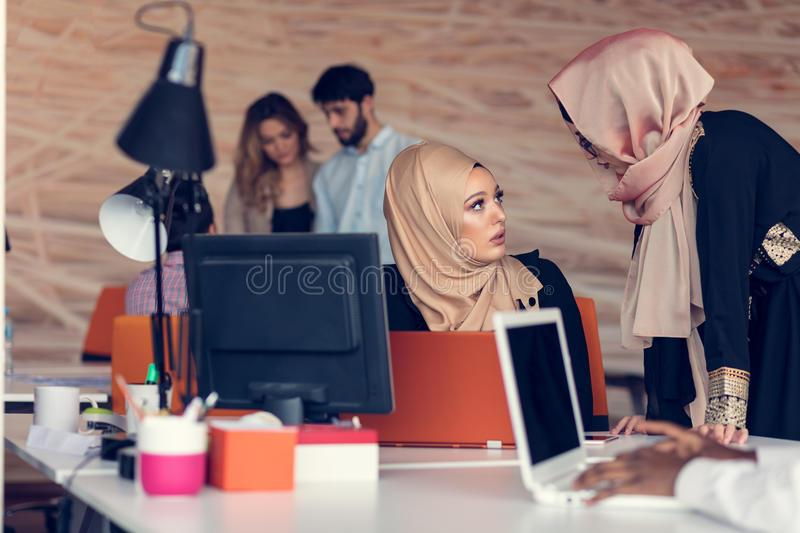No Mask: (440, 159, 536, 280), (558, 114, 639, 211), (252, 118, 314, 181), (320, 99, 381, 157)
